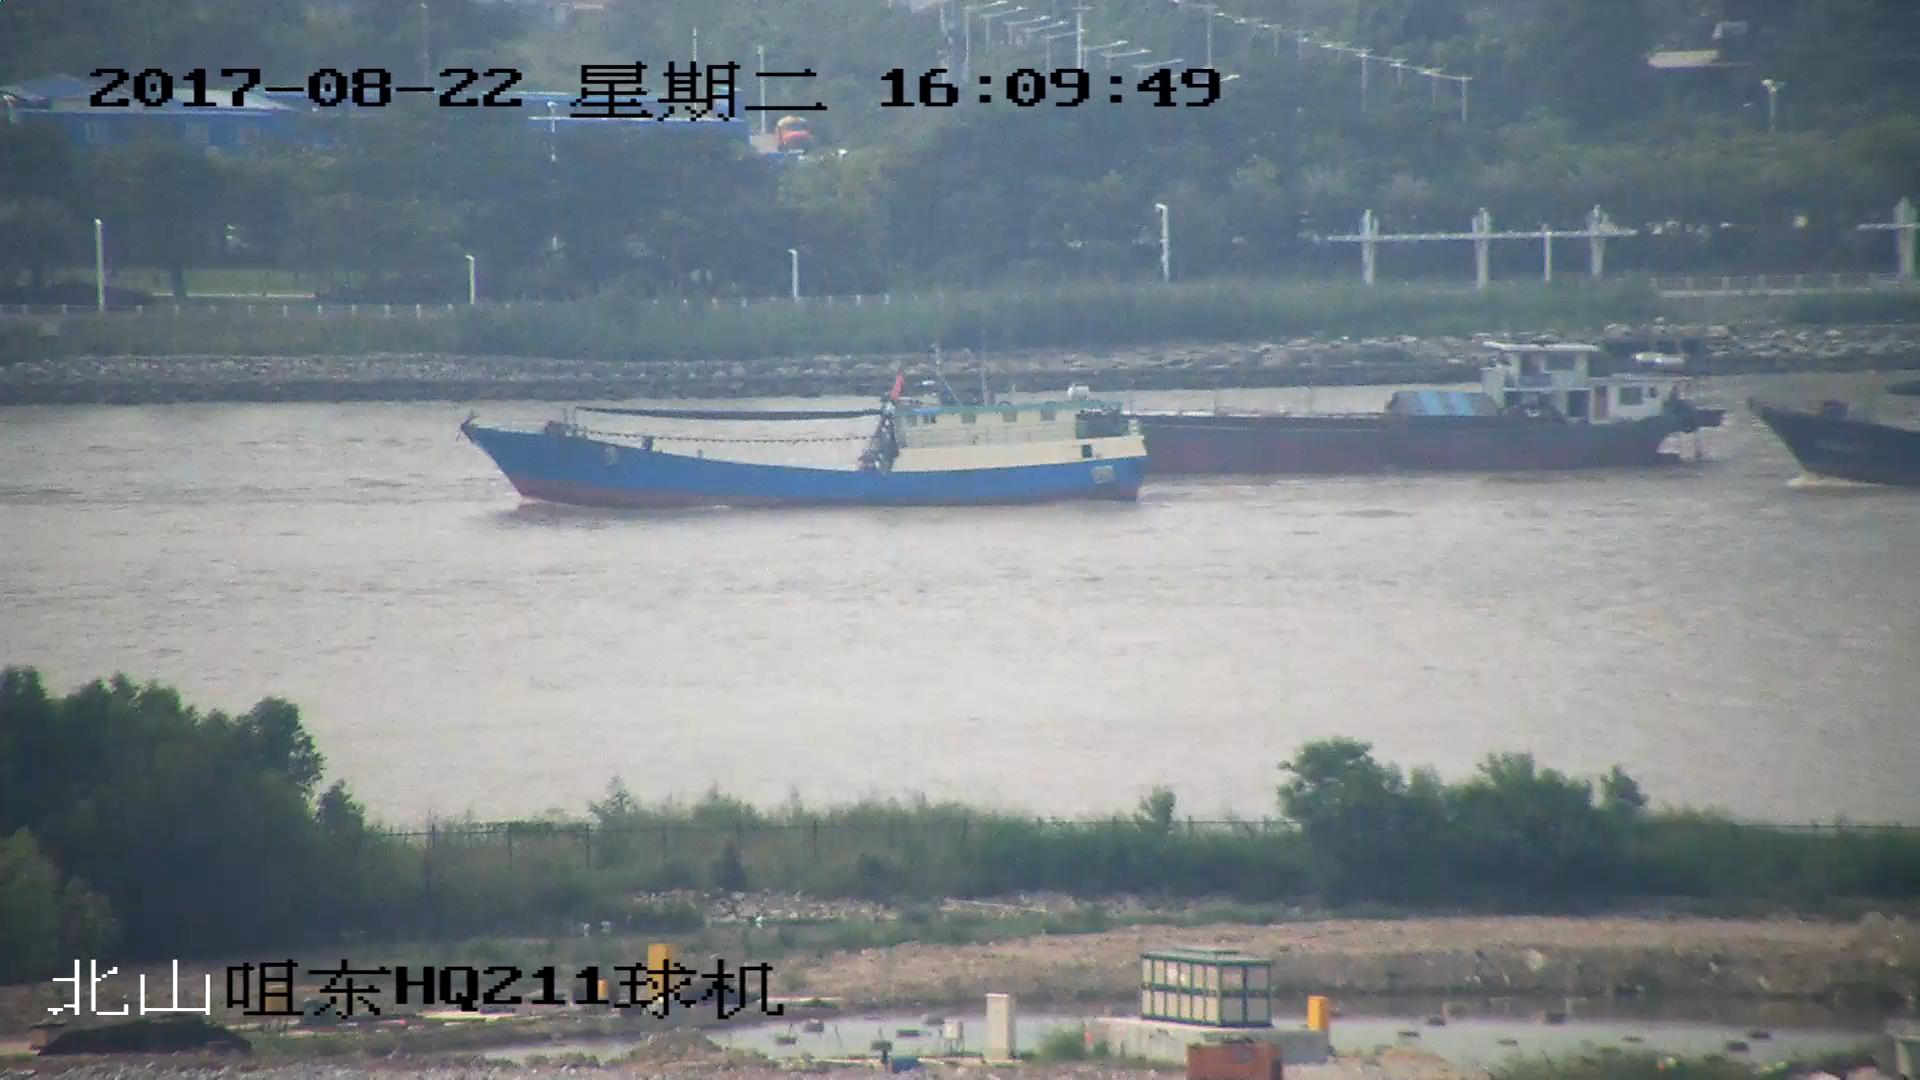bulk cargo carrier: (891, 320, 1725, 473)
fishing boat: (468, 361, 1142, 507), (1757, 373, 1920, 489)
